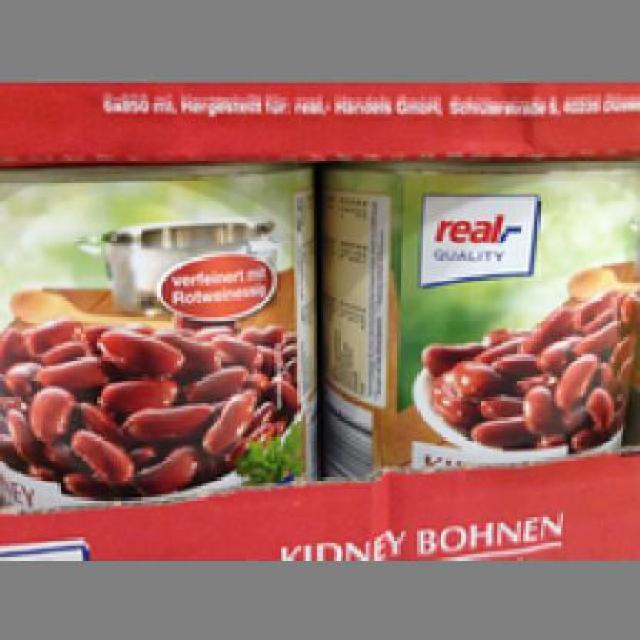Beans: (320, 160, 634, 497), (0, 166, 309, 500)
